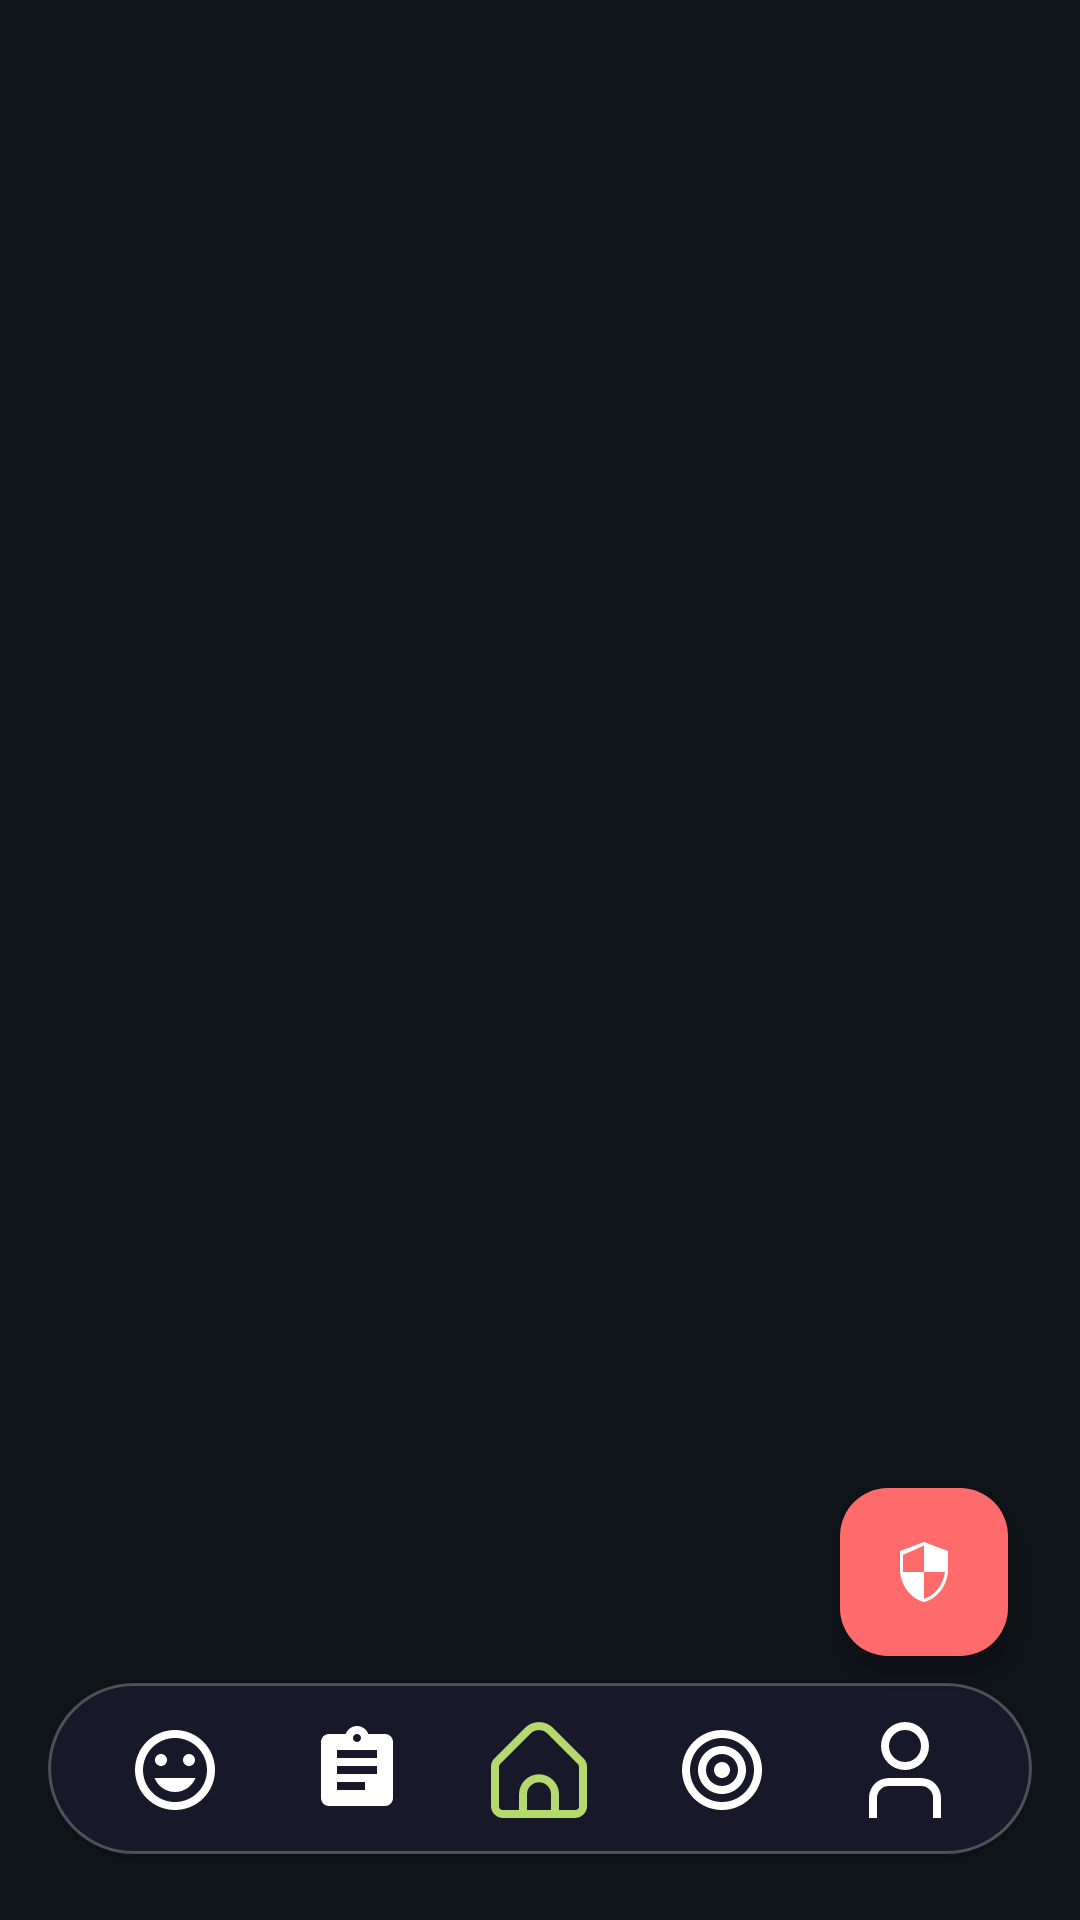

Icons on this 1080 x 1920 Android screen, each with its box as (x1, y1, x2, y2):
Bantuan Darurat: (840, 1488, 1008, 1656)
Goals: (682, 1730, 762, 1810)
Home: (491, 1722, 587, 1818)
Journal: (321, 1726, 393, 1806)
Mood: (135, 1730, 215, 1810)
Profile: (869, 1722, 941, 1818)
